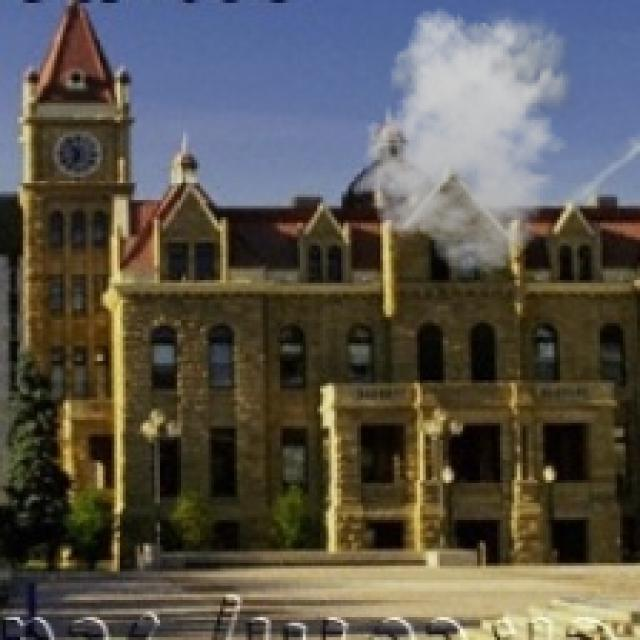Smoke: (357, 0, 583, 275)
